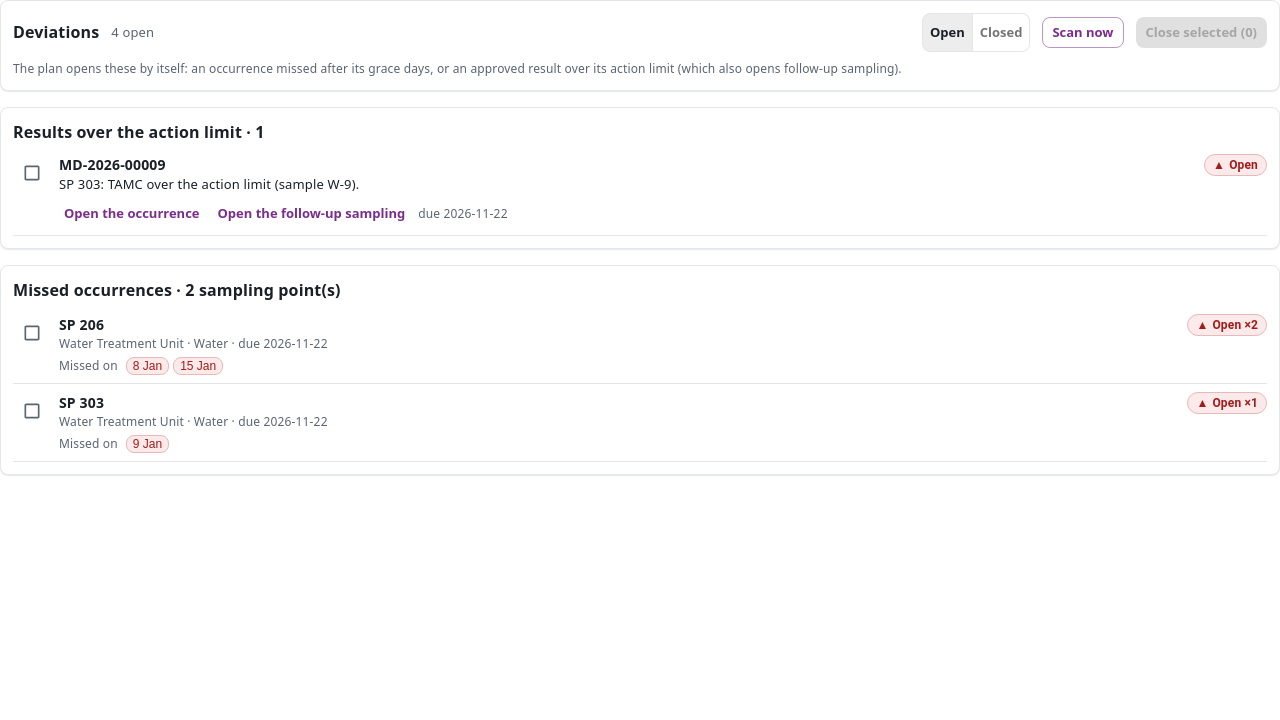
Test: DeviationsPanel › does not let missed occurrences and excursions be closed together
Check: the text "Missed occurrences · 2 sampling point(s)" is shown, box [13,279,341,301]
Click the checkbox named "Select SP 303": coordinates (32, 411) [22,401,42,421]
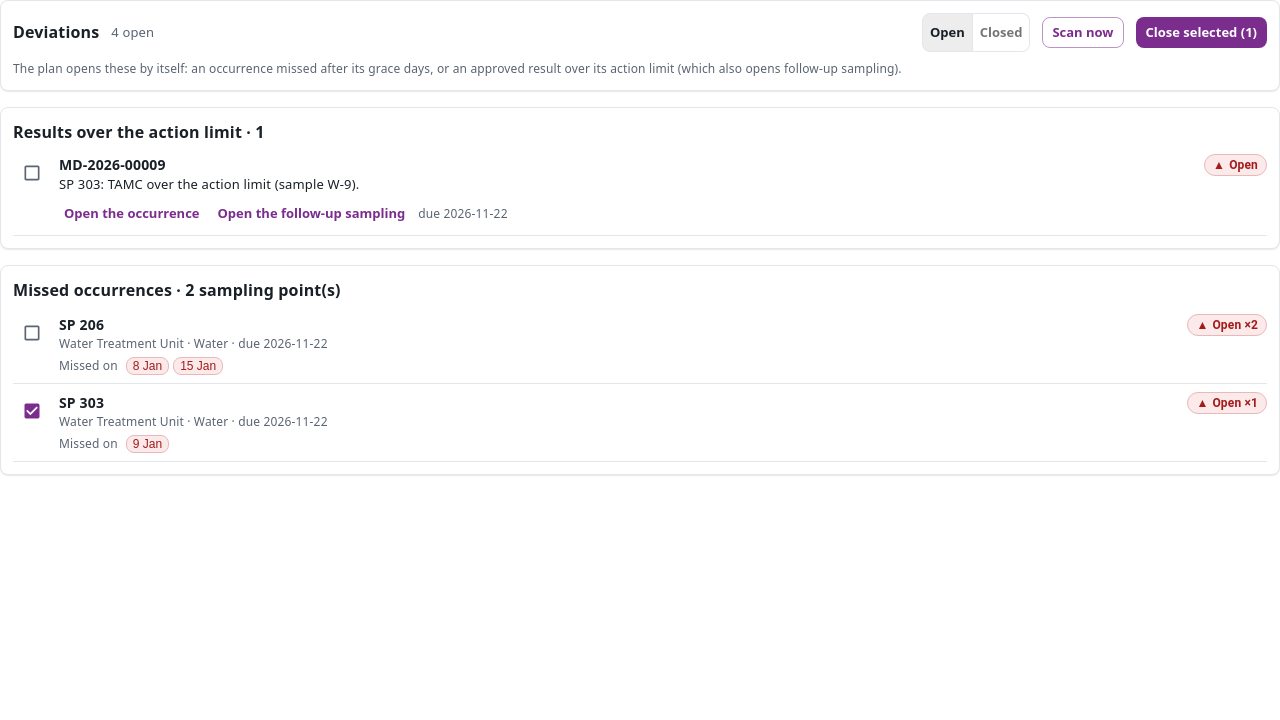
Click the checkbox named "Select MD-2026-00009": coordinates (32, 173) [22,163,42,183]
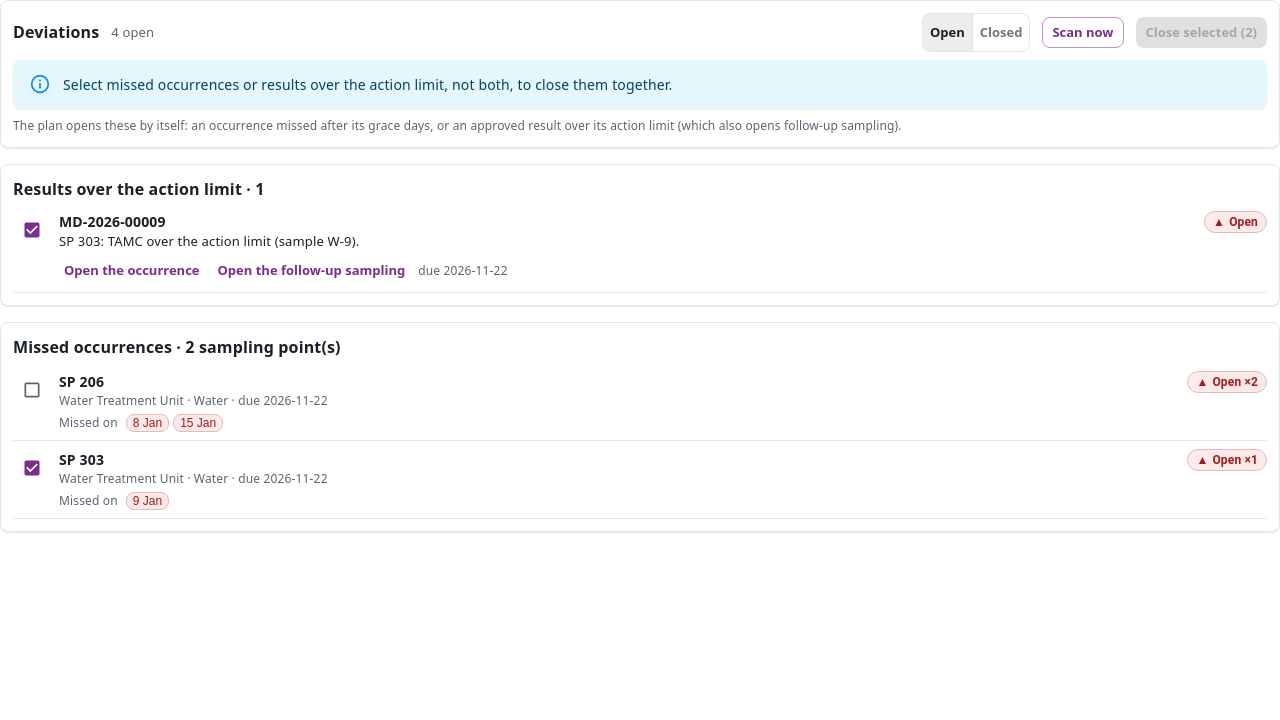
Check: the button "Close selected (2)" is disabled, box [1136,17,1267,48]
Check: the text "not both" is shown, box [63,75,672,94]
